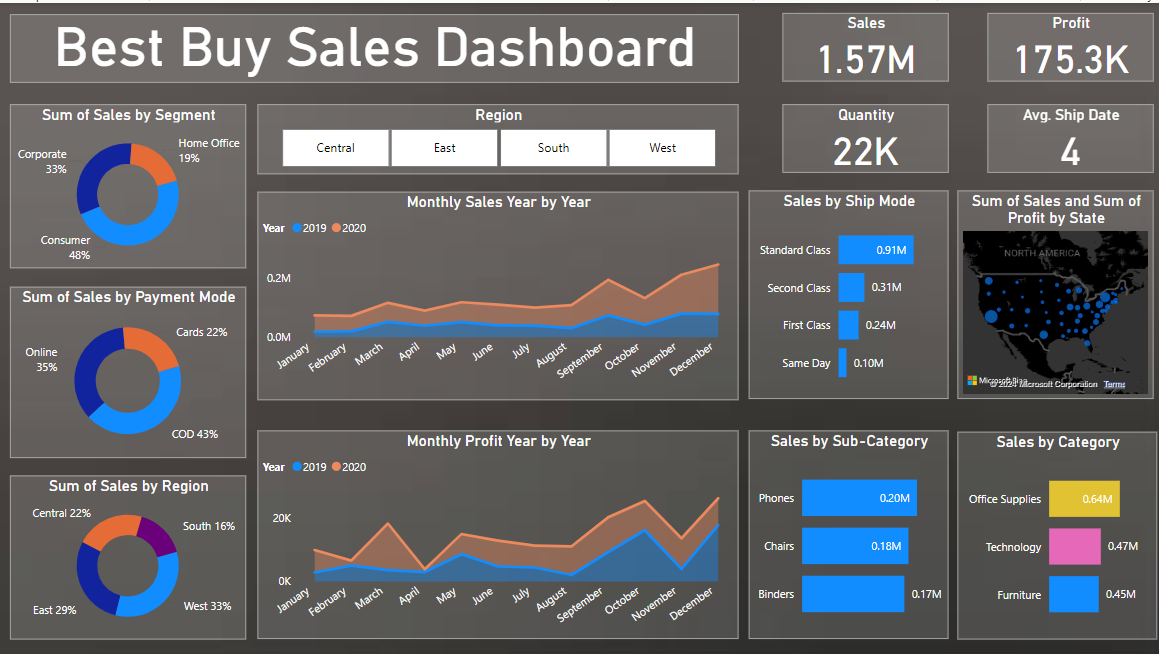

This screenshot's page, from the dashboard's own definition file:
{"tool":"powerbi","page":{"name":"Page 1","canvas":[1280,720],"ordinal":0},"visuals":[{"type":"clusteredBarChart","title":"Sales by Category","fields":{"Category":["Sheet1.Category"],"Y":["Sum(Sheet1.Sales)"]},"box":[1051.1,470.7,219.6,227.8],"z":0},{"type":"clusteredBarChart","title":"Sales by Sub-Category","fields":{"Y":["Sum(Sheet1.Sales)"],"Category":["Sheet1.Sub-Category"]},"box":[822,469.3,219.6,229.2],"z":1000},{"type":"clusteredBarChart","title":"Sales by Ship Mode","fields":{"Category":["Sheet1.Ship Mode"],"Y":["Sum(Sheet1.Sales)"]},"box":[822,205.8,219.6,229.2],"z":2000},{"type":"stackedAreaChart","title":"Monthly Sales Year by Year","fields":{"Series":["Sheet1.Order Date.Variation.Date Hierarchy.Year"],"Category":["Sheet1.Order Date.Variation.Date Hierarchy.Month","Sheet1.Order Date.Variation.Date Hierarchy.Day"],"Y":["Sum(Sheet1.Sales)"]},"box":[282.7,207.2,528.3,229.2],"z":3000},{"type":"stackedAreaChart","title":"Monthly Profit Year by Year","fields":{"Series":["Sheet1.Order Date.Variation.Date Hierarchy.Year"],"Category":["Sheet1.Order Date.Variation.Date Hierarchy.Month","Sheet1.Order Date.Variation.Date Hierarchy.Day"],"Y":["Sum(Sheet1.Profit)"]},"box":[282.7,469.3,528.3,229.2],"z":4000},{"type":"map","fields":{"Category":["Sheet1.State"],"Size":["Sum(Sheet1.Sales)"]},"box":[1051.1,205.8,215.4,229.2],"z":5000},{"type":"donutChart","fields":{"Category":["Sheet1.Segment"],"Y":["Sum(Sheet1.Sales)"]},"box":[11,111.1,259.3,179.8],"z":6000},{"type":"donutChart","fields":{"Y":["Sum(Sheet1.Sales)"],"Category":["Sheet1.Payment Mode"]},"box":[11,311.5,259.3,188],"z":7000},{"type":"donutChart","fields":{"Y":["Sum(Sheet1.Sales)"],"Category":["Sheet1.Region"]},"box":[11,518.7,259.3,179.8],"z":8000},{"type":"slicer","title":"Region","fields":{"Values":["Sheet1.Region"]},"box":[282.7,111.1,528.3,76.8],"z":9000},{"type":"card","title":"Sales","fields":{"Values":["Sum(Sheet1.Sales)"]},"box":[859,11,182.5,75.5],"z":10000},{"type":"card","title":"Profit","fields":{"Values":["Sum(Sheet1.Profit)"]},"box":[1084.1,11,182.5,75.5],"z":11000},{"type":"card","title":"Quantity","fields":{"Values":["Sum(Sheet1.Quantity)"]},"box":[859,111.1,182.5,75.5],"z":12000},{"type":"card","title":"Avg. Ship Date","fields":{"Values":["Avg(Sheet1.AvgDelivery)"]},"box":[1084.1,111.1,182.5,75.5],"z":13000},{"type":"textbox","title":"Best Buy Sales Dashboard","box":[11,12.3,800,75.5],"z":14000}]}

Visuals, with their boxes in screenshot pixels (x1, y1, x2, y2), scaled from the page's 1280x720 canvas onto the 1159x654 screenshot:
"Sales by Category" clusteredBarChart: box(952, 428, 1151, 634)
"Sales by Sub-Category" clusteredBarChart: box(744, 426, 943, 634)
"Sales by Ship Mode" clusteredBarChart: box(744, 187, 943, 395)
"Monthly Sales Year by Year" stackedAreaChart: box(256, 188, 734, 396)
"Monthly Profit Year by Year" stackedAreaChart: box(256, 426, 734, 634)
map - Sheet1.State x Sum(Sheet1.Sales): box(952, 187, 1147, 395)
donutChart - Sheet1.Segment x Sum(Sheet1.Sales): box(10, 101, 245, 264)
donutChart - Sum(Sheet1.Sales) x Sheet1.Payment Mode: box(10, 283, 245, 454)
donutChart - Sum(Sheet1.Sales) x Sheet1.Region: box(10, 471, 245, 634)
"Region" slicer: box(256, 101, 734, 171)
"Sales" card: box(778, 10, 943, 79)
"Profit" card: box(982, 10, 1147, 79)
"Quantity" card: box(778, 101, 943, 169)
"Avg. Ship Date" card: box(982, 101, 1147, 169)
"Best Buy Sales Dashboard" textbox: box(10, 11, 734, 80)
